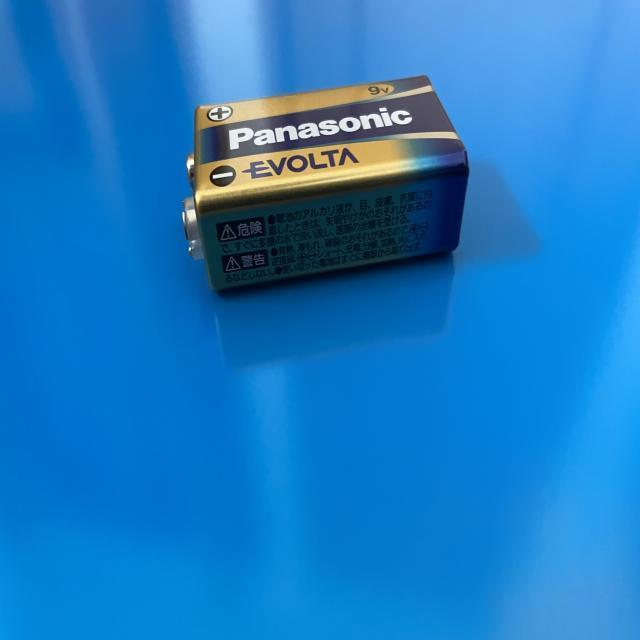9V: (184, 73, 471, 294)
